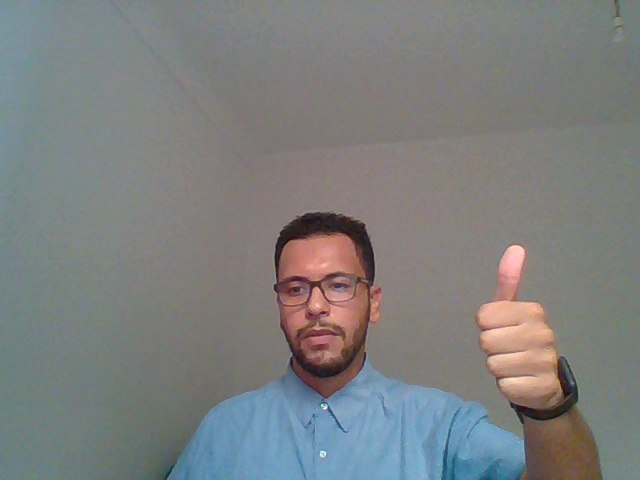ok: (430, 202, 601, 478)
